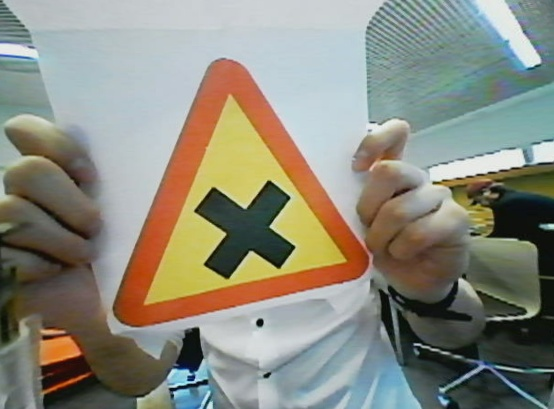junction: (106, 55, 395, 330)
